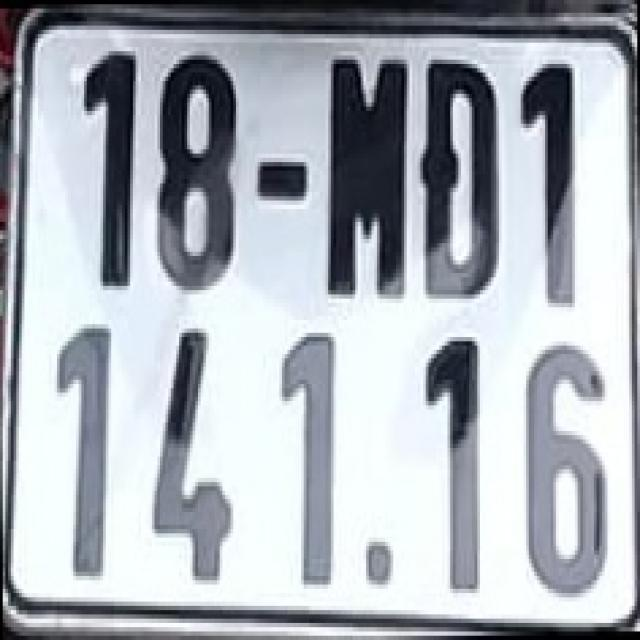1: (274, 320, 347, 589), (51, 316, 122, 580), (420, 328, 490, 594), (76, 38, 146, 290), (518, 55, 586, 308)
4: (146, 320, 242, 589)
6: (520, 337, 610, 597)
8: (154, 42, 242, 290)
B: (420, 55, 502, 308)
D: (420, 55, 502, 298)
M: (322, 47, 412, 303)
